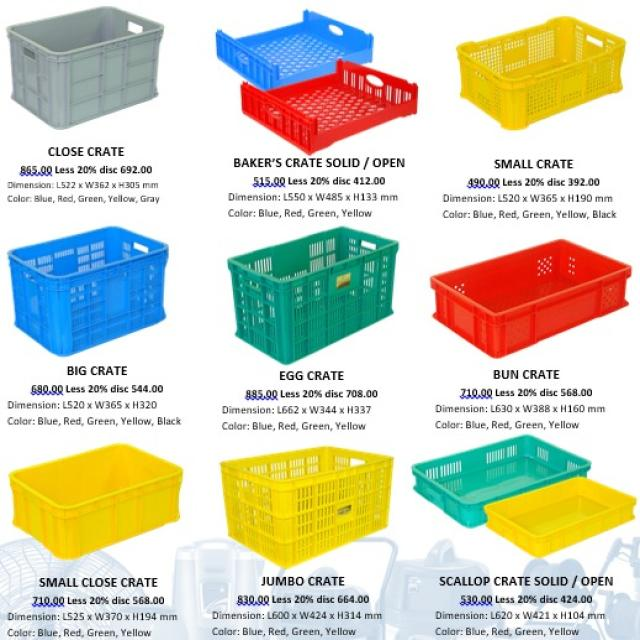basket: (206, 190, 425, 379), (0, 417, 198, 576), (234, 23, 427, 172), (0, 216, 186, 366), (406, 399, 597, 545), (214, 440, 393, 575)
